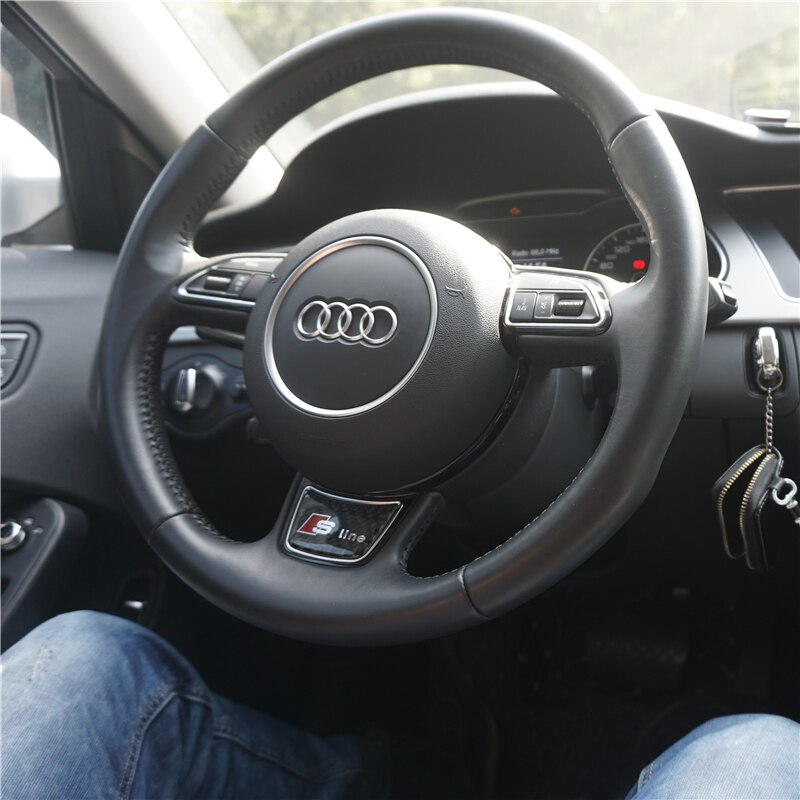audi: (290, 293, 409, 352)
